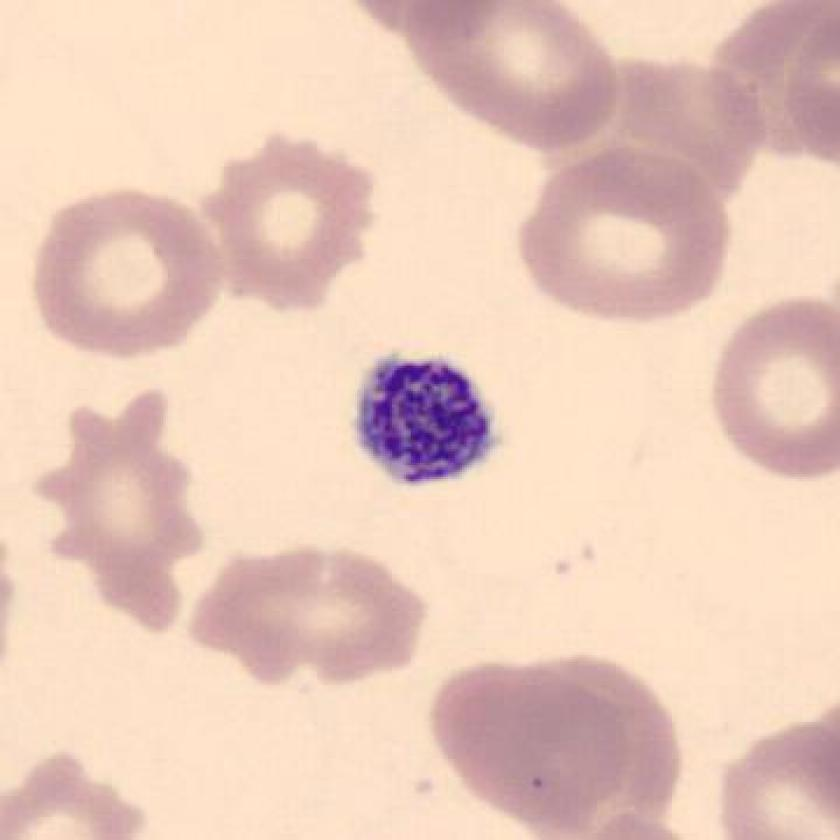platelets: (337, 346, 510, 501)
